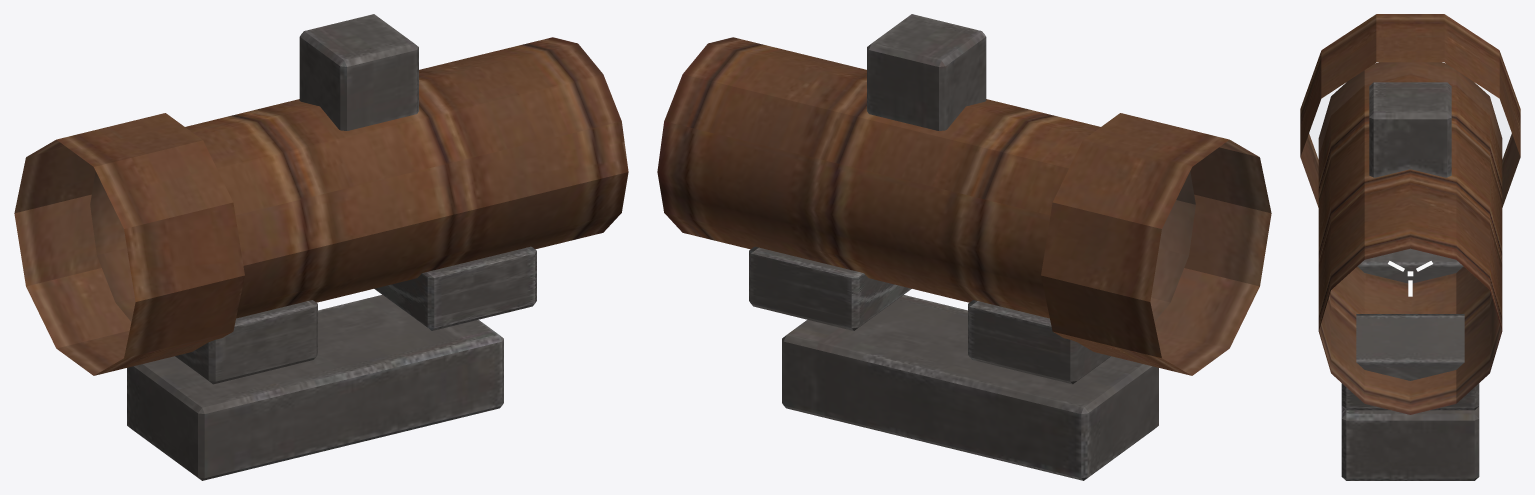
The model's file is crows_eye_3x.glb.
The picture shows the model from 3 angles, left to right: view 1: azimuth 30°, elevation 25°; view 2: azimuth 150°, elevation 25°; view 3: azimuth 270°, elevation 25°; orthographic projection. The views are drawn at different scales.
Visible parts, largest first — view 1: crows_eye_3x; view 2: crows_eye_3x; view 3: crows_eye_3x, Reticle.
Part boxes in pixels (x1,y1,x2,y2): crows_eye_3x: [14, 14, 628, 480]; crows_eye_3x: [657, 14, 1271, 480]; crows_eye_3x: [1300, 14, 1520, 480]; Reticle: [1388, 261, 1432, 296].
Bounding box in the file's own units: 0.115 × 0.081 × 0.048.
Materials: 3 (1 with a texture image).
